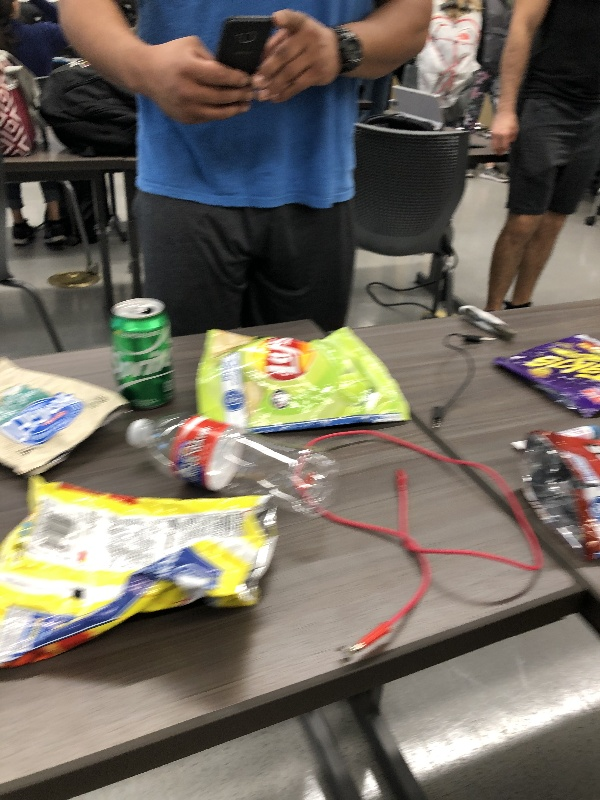bag: (1, 469, 286, 673), (194, 324, 417, 426), (1, 349, 142, 482), (514, 422, 600, 567), (489, 327, 600, 422)
bottle: (122, 413, 343, 520)
can: (101, 294, 177, 412)
